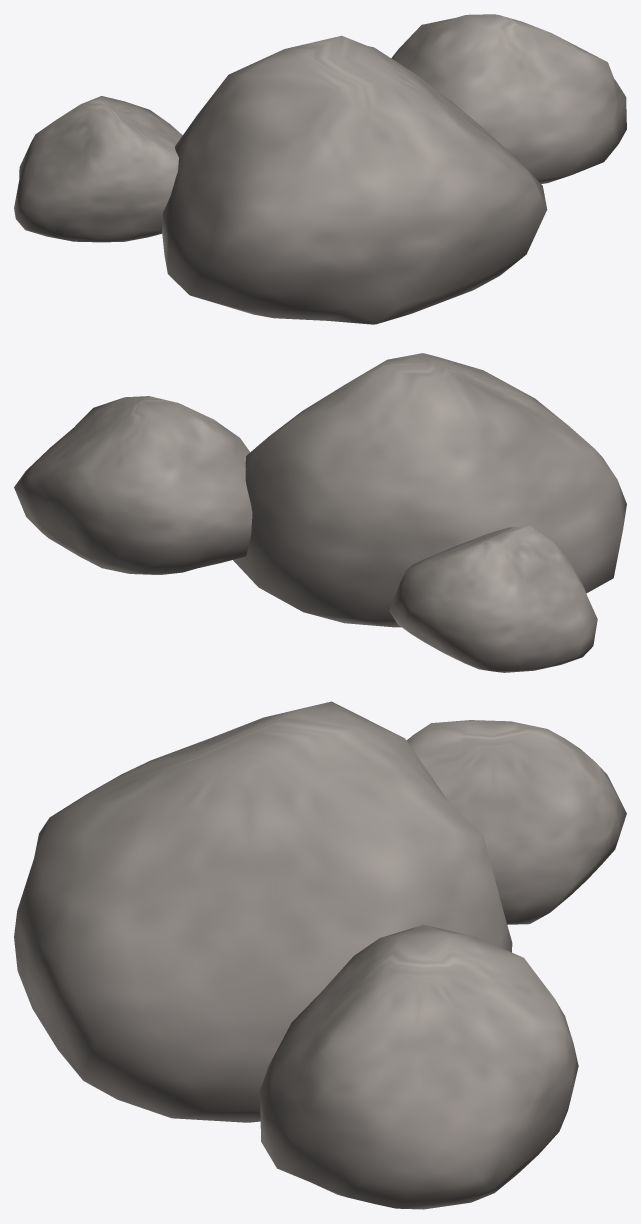
The model's file is Kit_RockB.fbx.
The picture shows the model from 3 angles, top to bottom: view 1: azimuth 30°, elevation 25°; view 2: azimuth 150°, elevation 25°; view 3: azimuth 270°, elevation 25°; orthographic projection. The views are drawn at different scales.
Parts seen in each view (by area): view 1: Kit_RockB; view 2: Kit_RockB; view 3: Kit_RockB.
Boxes of the visible parts, x1,y1,x2,y2 form: Kit_RockB: (14, 14, 626, 324); Kit_RockB: (14, 353, 626, 672); Kit_RockB: (14, 701, 626, 1209).
Bounding box in the file's own units: 7.06 × 2.59 × 4.54.
1 material, 1 textured.
